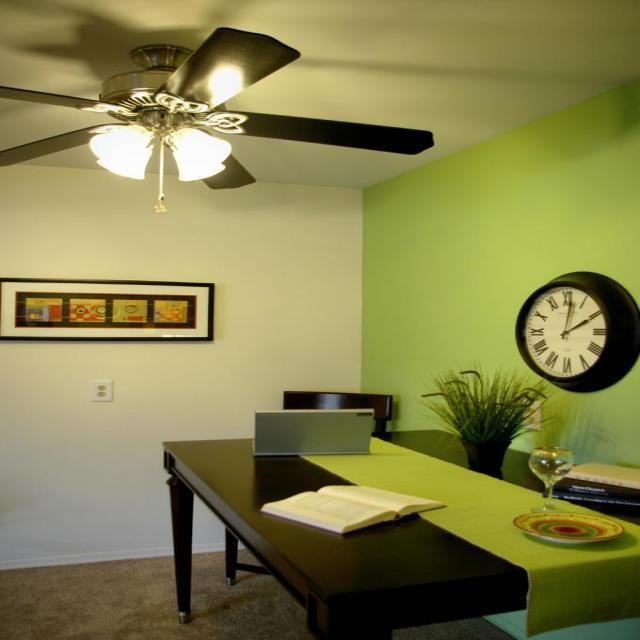bulb_on: (90, 118, 148, 159), (179, 126, 230, 165), (94, 156, 149, 179), (178, 162, 229, 182)
fan_off: (1, 21, 439, 192)
